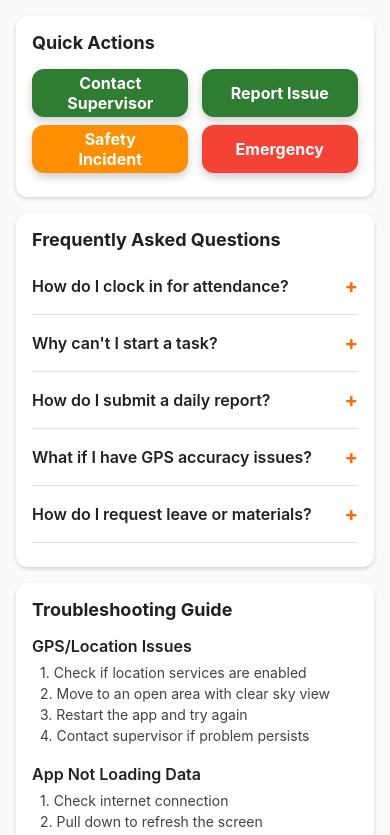
Test: HelpSupportScreen › expands and collapses FAQ items when tapped
Expected: the text "Go to the Attendance tab" is not shown
Tap to expand
Click the text "How do I clock in for attendance?" at (160, 286), box [32,276,289,296]
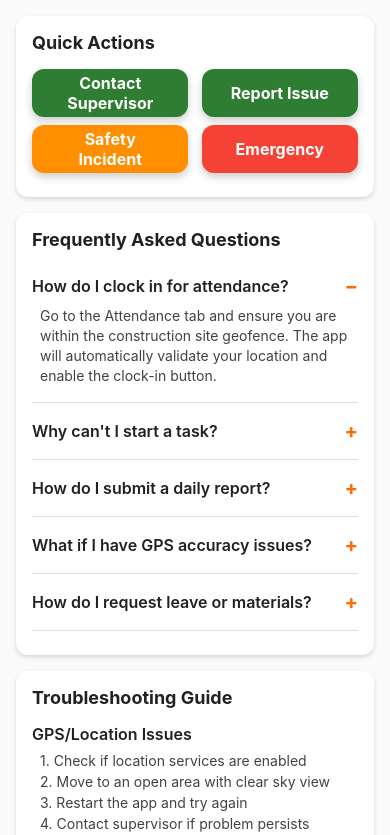
Now the text "Go to the Attendance tab" is shown, box [40,307,351,384]
Tap again to collapse
Click the text "How do I clock in for attendance?" at (160, 286), box [32,276,289,296]
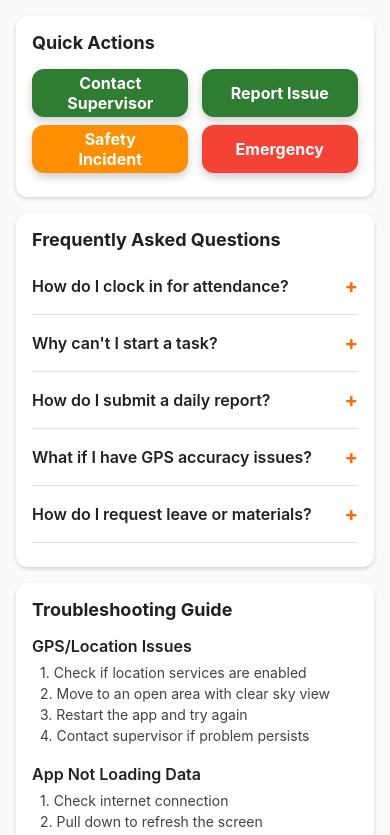
Now the text "Go to the Attendance tab" is gone
